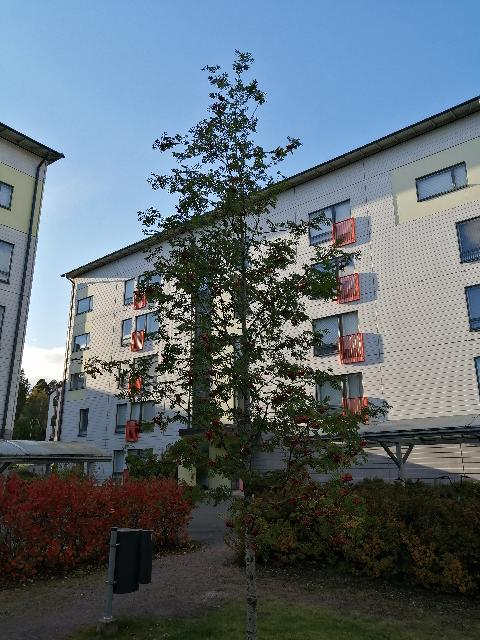rowan: (66, 42, 396, 640)
